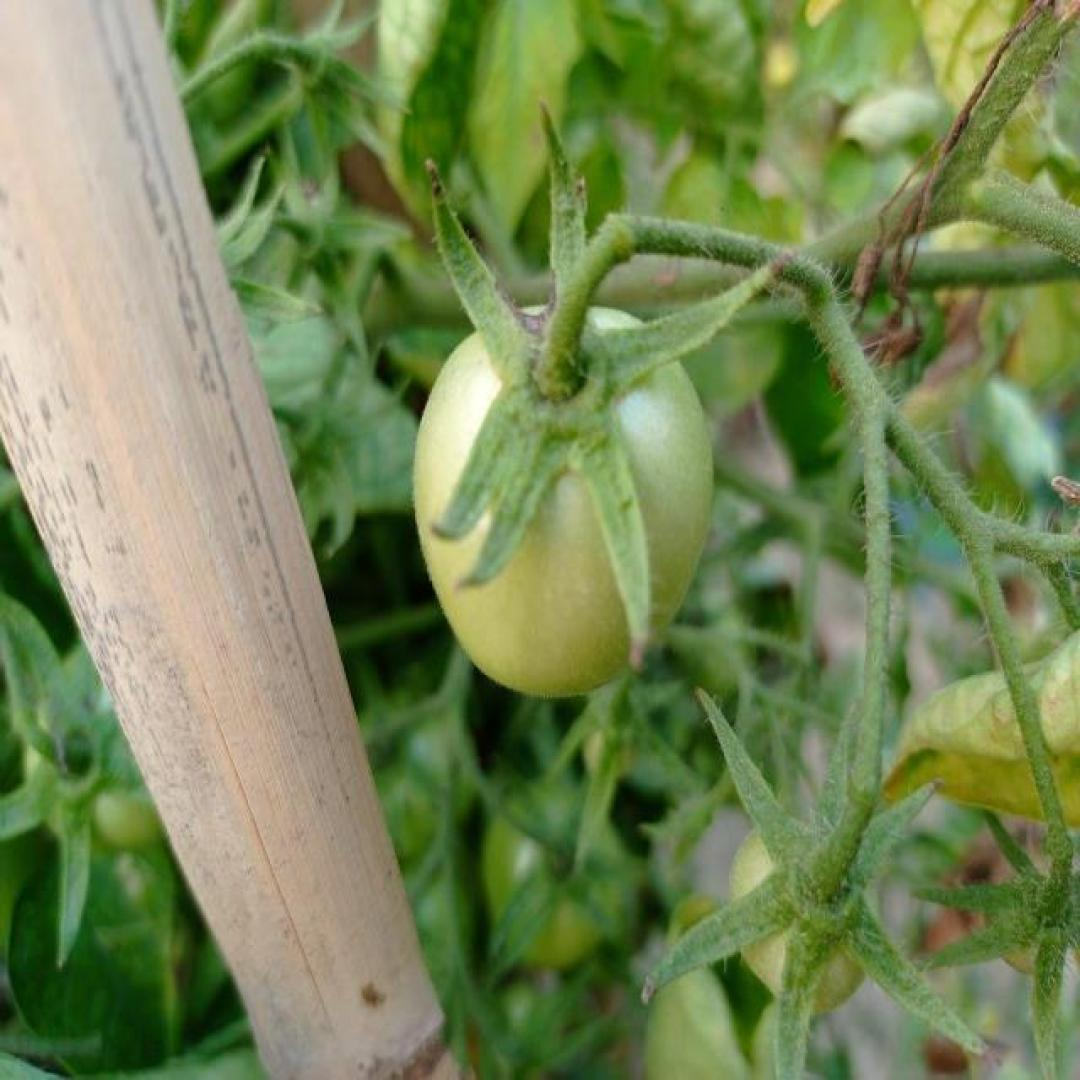mentah: (410, 302, 714, 699)
